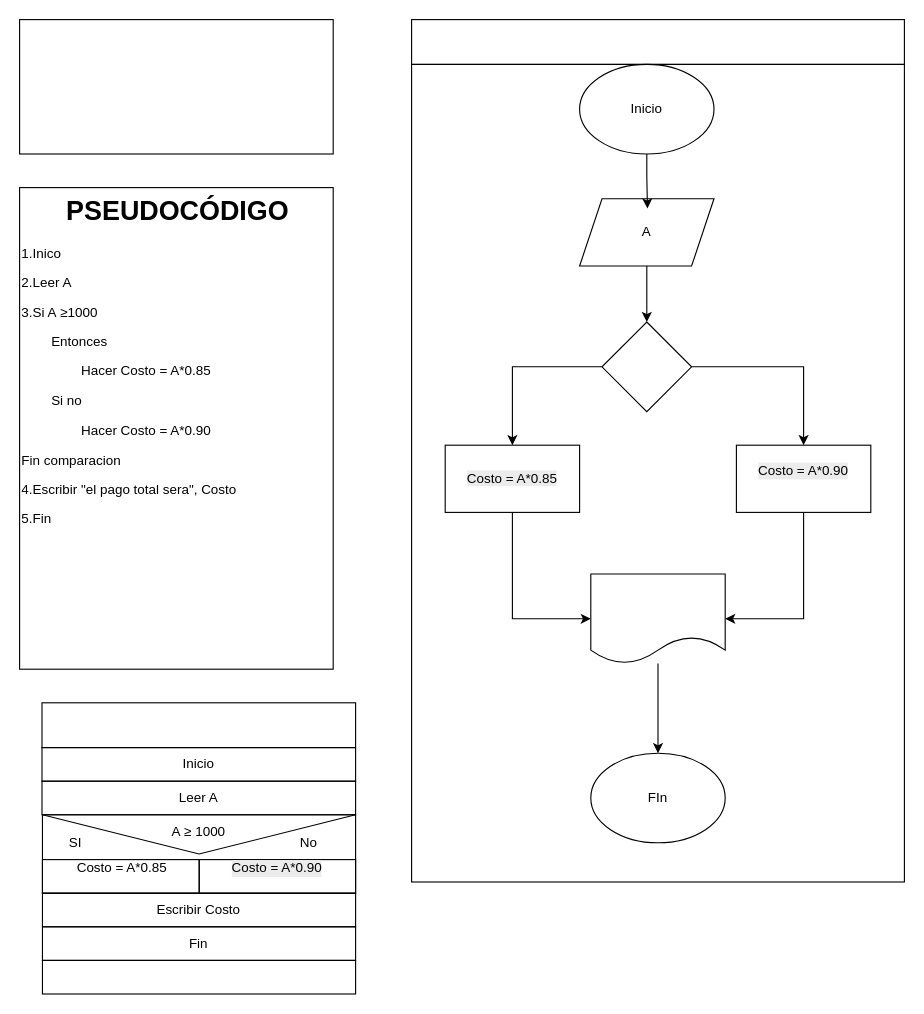
Image size: 924x1014. Some labels were removed from this diagram. The centre of each missing label's shape, as x and y in pixels:
"A ≥1000" goes at (x=646, y=366).
"Costo" goes at (x=657, y=618).
"DIAGRAMA DE FLUJO" goes at (x=657, y=41).
"DIAGRAMA N/S ." goes at (x=198, y=725).
"VARIABLES 1.A -Cantidad Lapizes - Real 2.Costo - Coso lapizes - Real 3. 4. 5." goes at (x=175, y=86).
